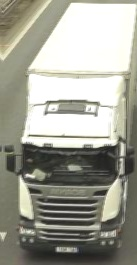truck: (3, 4, 135, 257)
